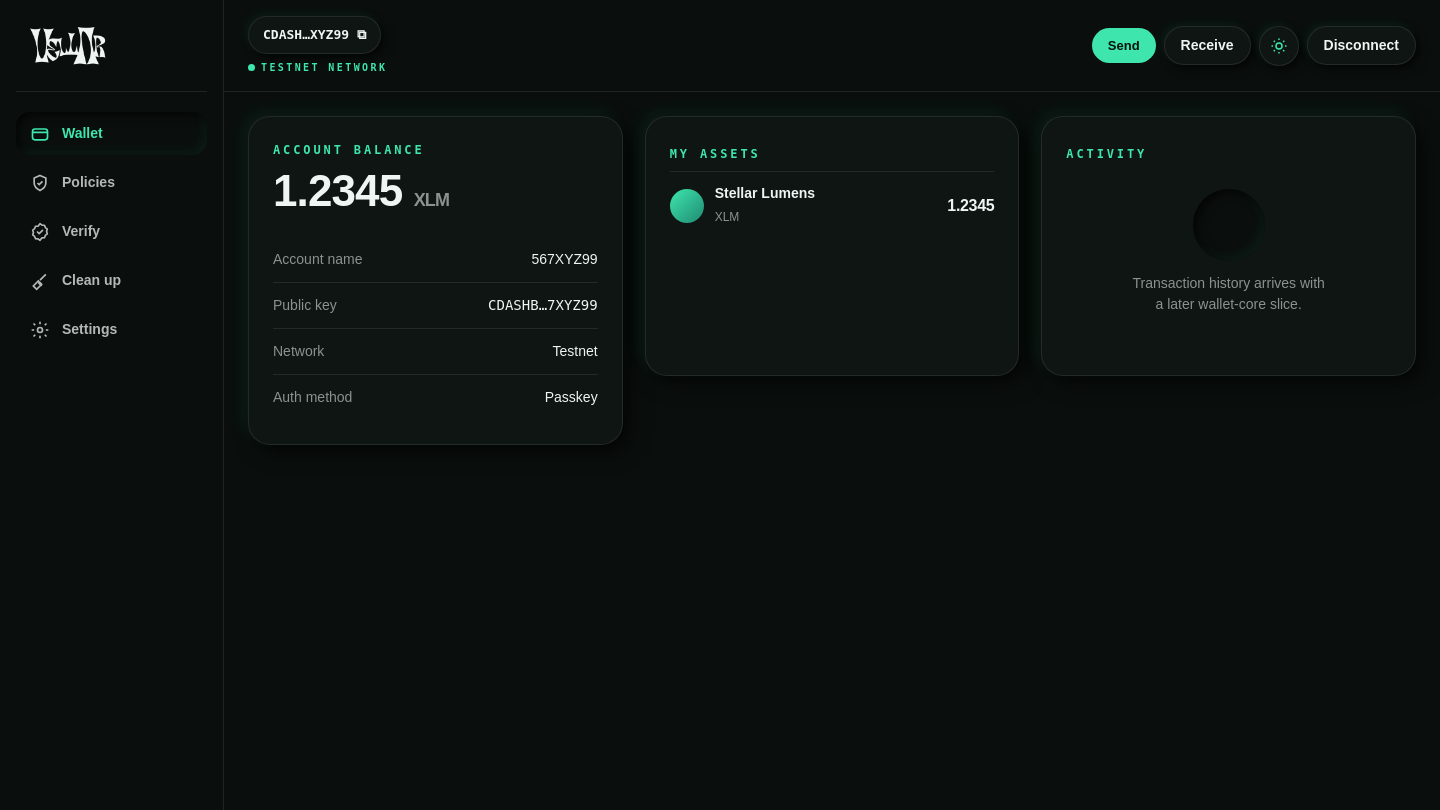
Dashboard › opens the send panel
Click the button "Send".
click(1124, 46)  # box [1092, 28, 1156, 63]
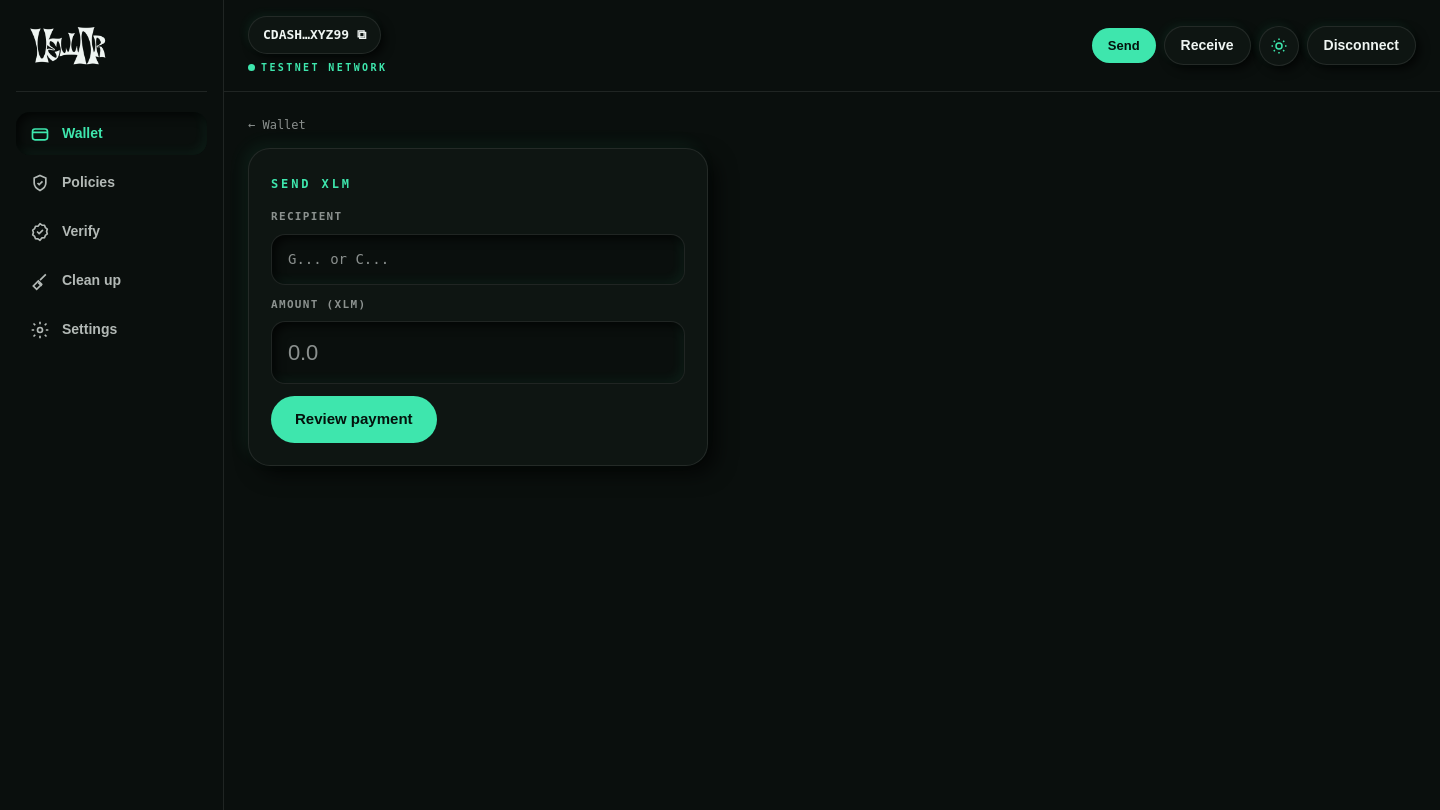
expect the button "Review payment" is shown: met, box [271, 396, 436, 442]
